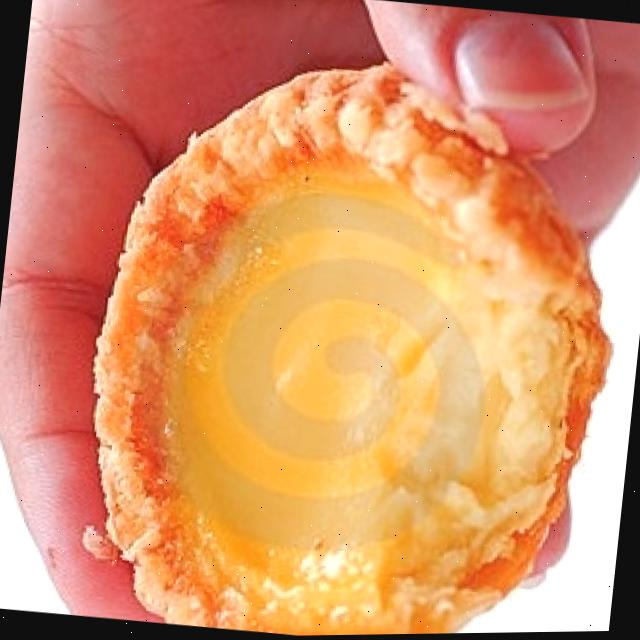炸货点心: (29, 20, 640, 640)
蛋糕甜品: (29, 20, 640, 640)
